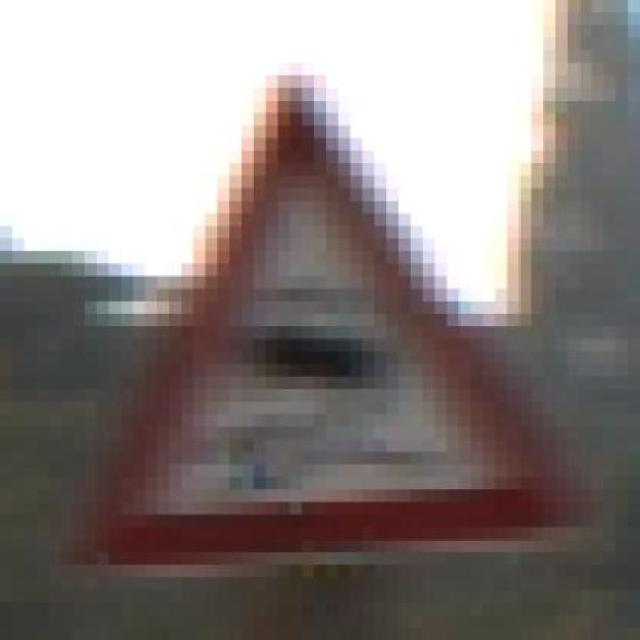Slippery Road Ahead: (96, 50, 592, 590)
